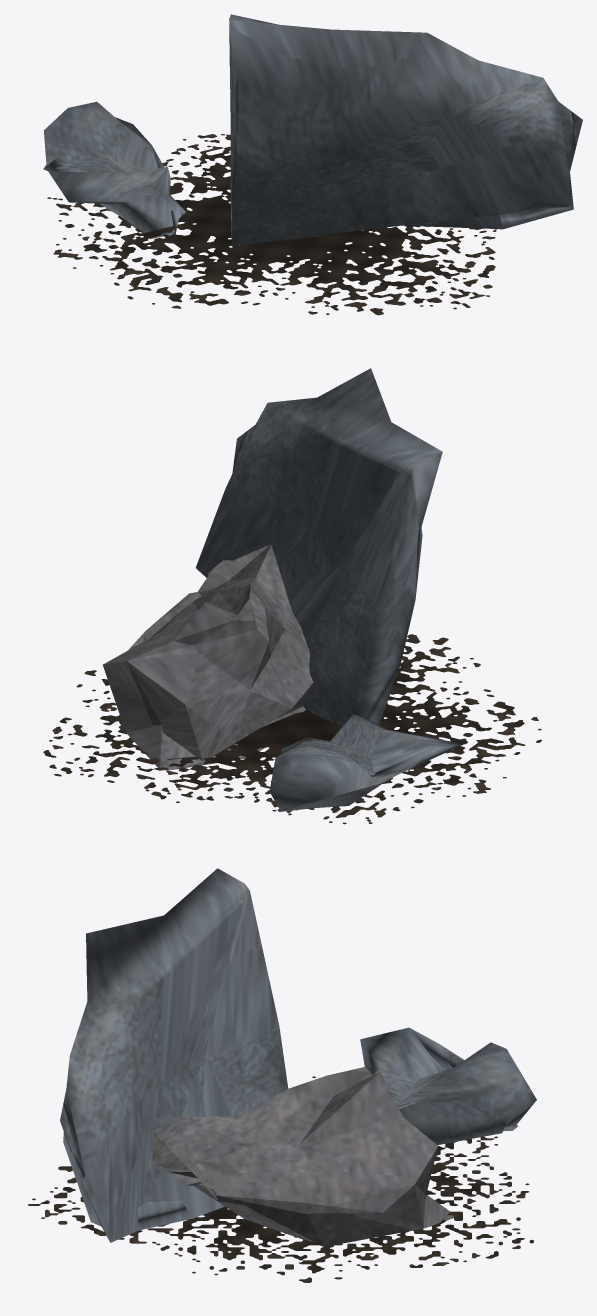
File: rock_slab_02.glb
The picture shows the model from 3 angles, top to bottom: view 1: azimuth 30°, elevation 25°; view 2: azimuth 150°, elevation 25°; view 3: azimuth 270°, elevation 25°; orthographic projection. The views are drawn at different scales.
Visible parts, largest first — view 1: rock_slab_02; view 2: rock_slab_02; view 3: rock_slab_02.
Part boxes in pixels (<box>): rock_slab_02: <box>43,14,582,315</box>; rock_slab_02: <box>43,368,541,824</box>; rock_slab_02: <box>28,868,536,1282</box>.
Bounding box in the file's own units: 1.56 × 0.8202 × 1.56.
2 materials, 2 textured.
